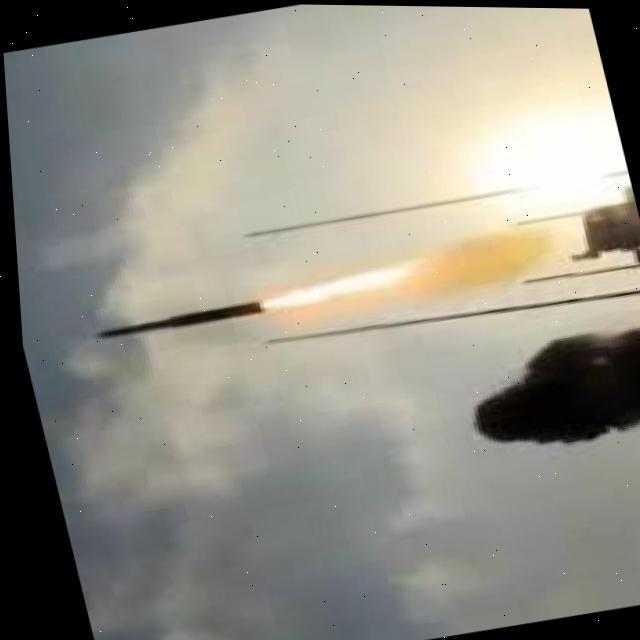missile: (83, 293, 267, 349)
